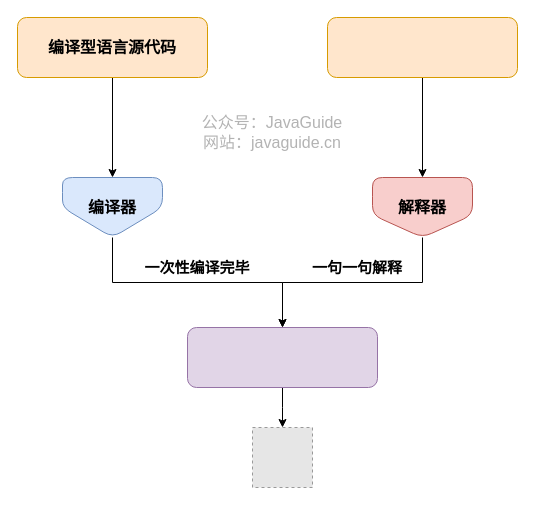
Some shapes in this 535 by 505 pixel diagram are drawn without their labels. Grey dashed boxes stand in for pictures. The box of each missing label's shape, as (x1, y1, x2, y2) in pixels:
机器可理解的代码: (186, 326, 378, 388)
解释型语言源代码: (326, 16, 518, 78)
